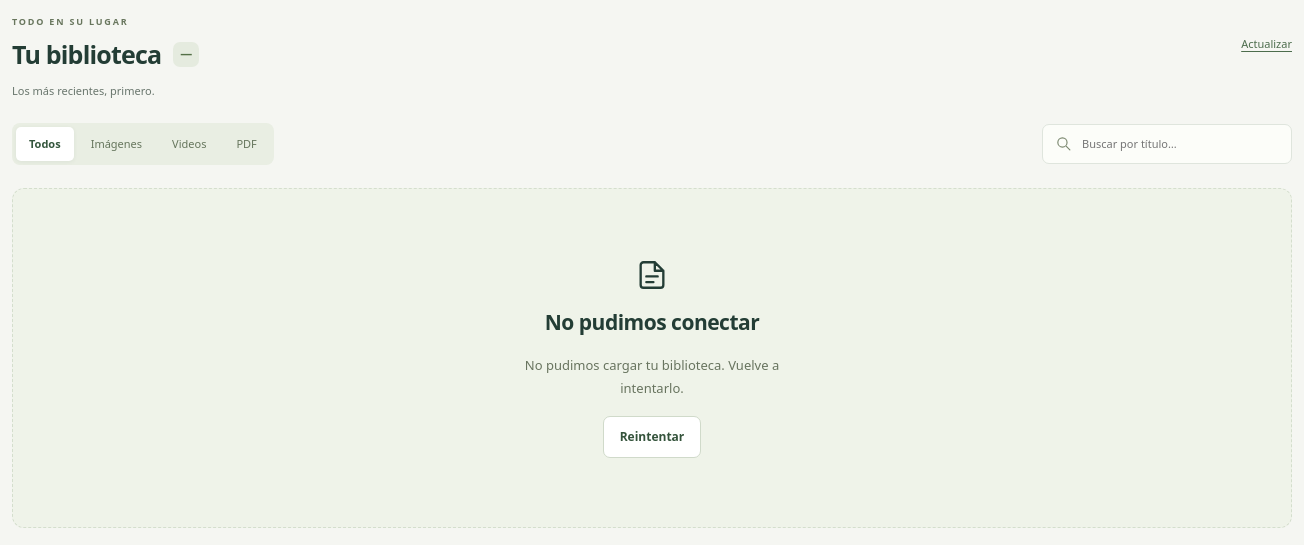
Test: error permite reintentar y un listado vacío invita a subir
Click the button "Reintentar" at (652, 437), box [603,416,701,458]
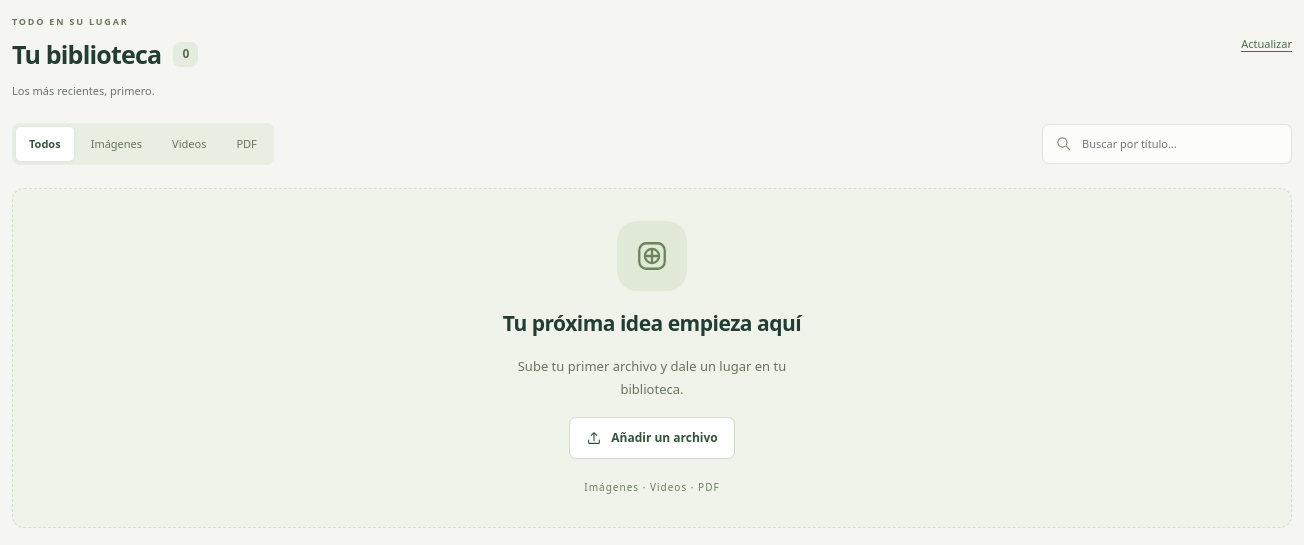
Expected: the heading "Tu próxima idea empieza aquí" is shown, [503,308,801,340]
